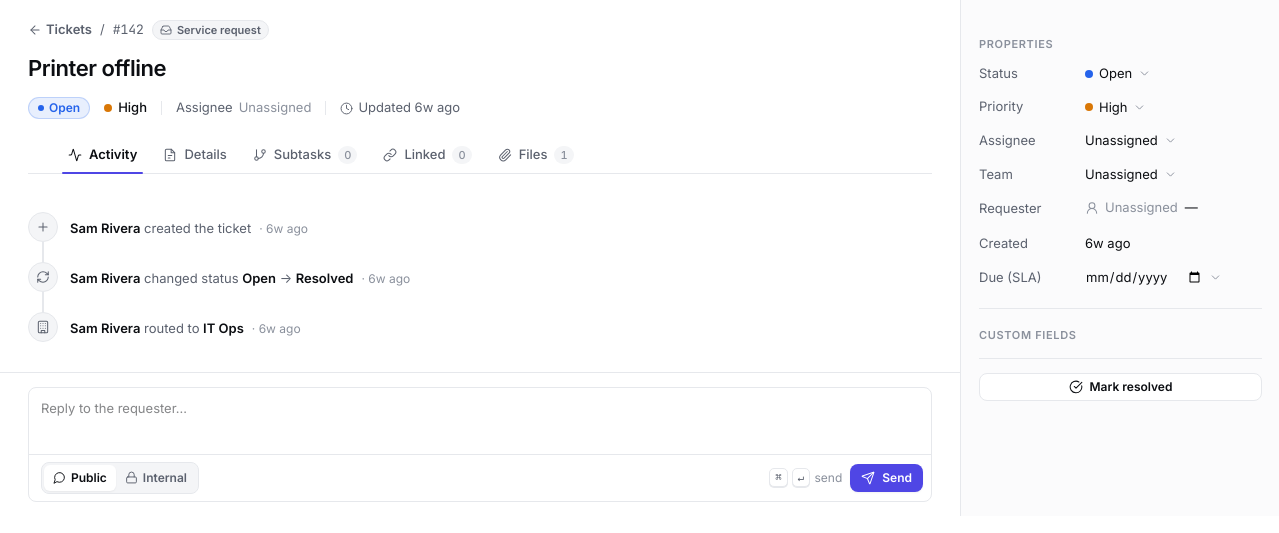
Test: TicketDetail (restored) › lists attachments in the Files tab and uploads a file
Check: the heading "Printer offline" is shown, box [28, 55, 166, 81]
What coordinates should you click on to do the following:
click the text "Files"
I would click on:
 (536, 155)
Its box is [498, 146, 574, 164].
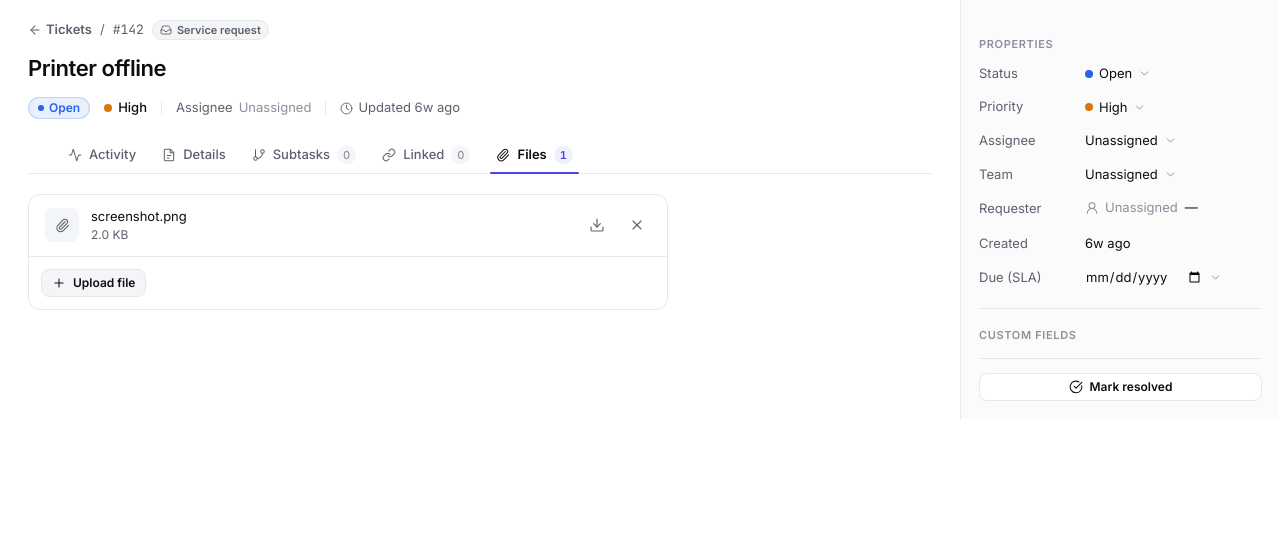
Check: the text "screenshot.png" is shown, box [91, 208, 187, 224]
